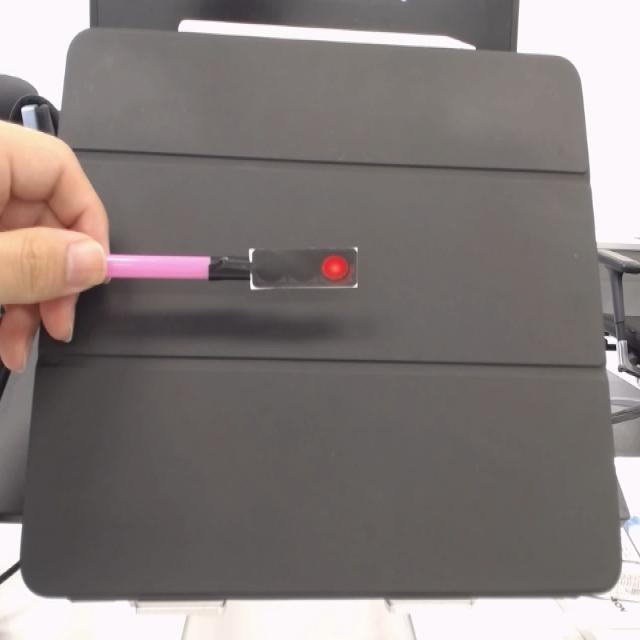traffic light: (248, 245, 360, 300)
